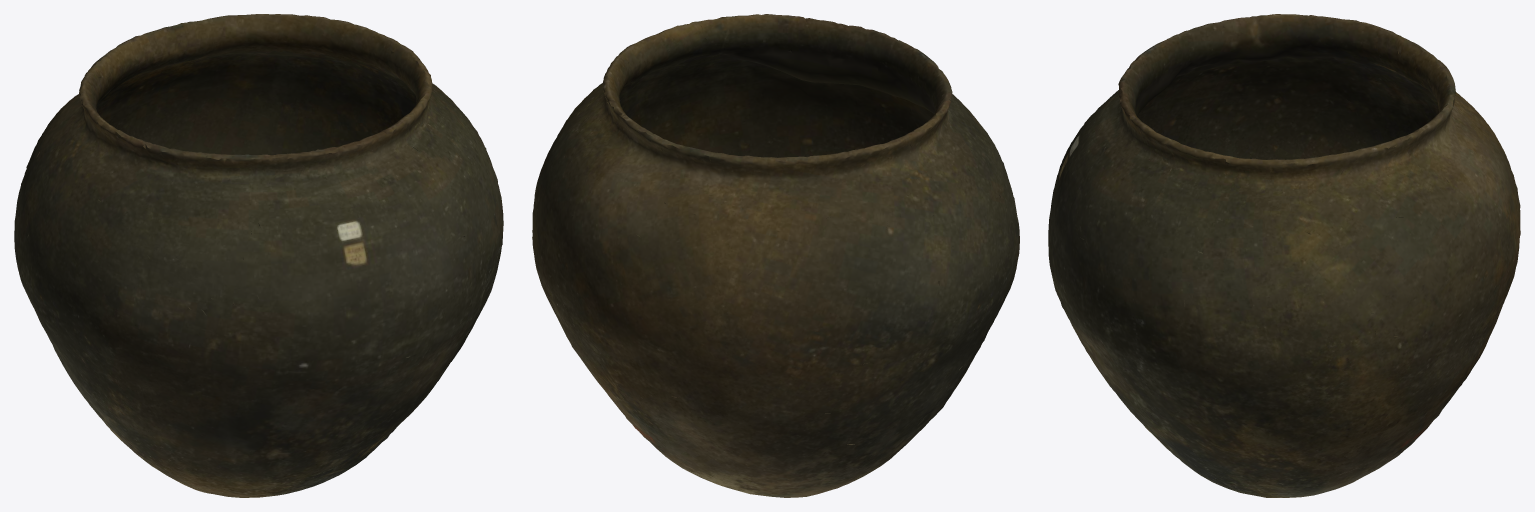
The model's file is Pot.glb.
3 views of the same model, side by side, from view 1: azimuth 30°, elevation 25°; view 2: azimuth 150°, elevation 25°; view 3: azimuth 270°, elevation 25° (orthographic).
Parts seen in each view (by area): view 1: unnamed; view 2: unnamed; view 3: unnamed.
Part boxes in pixels (x1,y1,x2,y2): unnamed: [14, 14, 503, 497]; unnamed: [532, 14, 1019, 497]; unnamed: [1048, 14, 1520, 497].
Bounding box in the file's own units: 2.4 × 2.16 × 2.33.
1 material, 1 textured.
